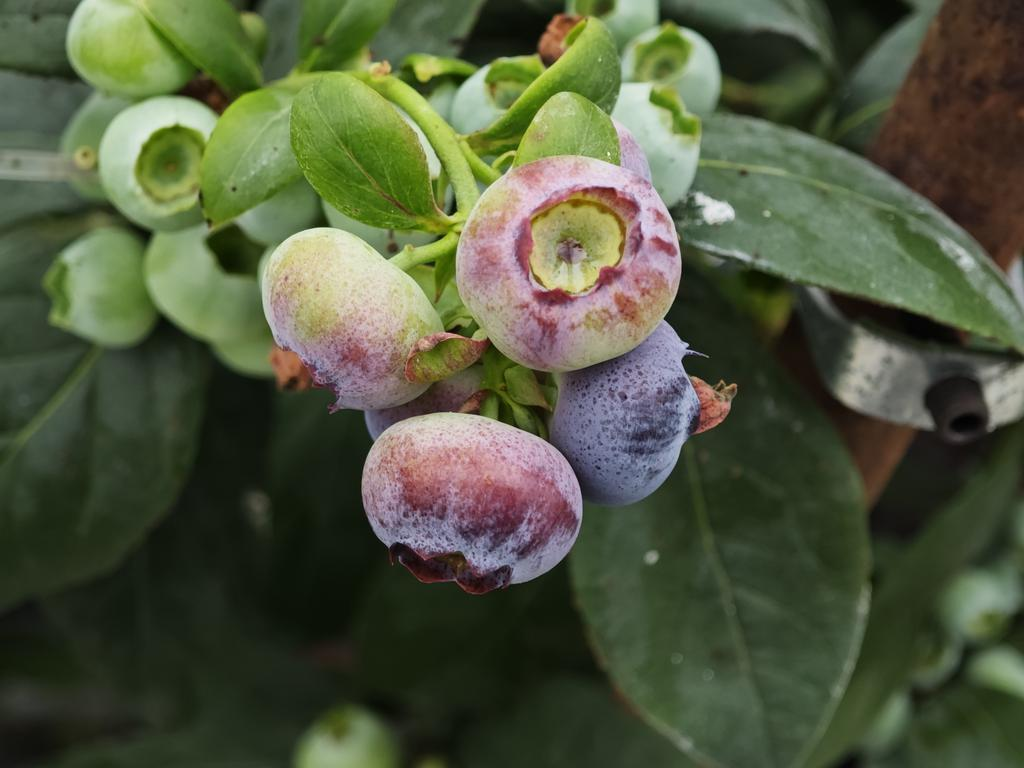Semi-RipeBlueBerry: (454, 149, 683, 376), (358, 408, 585, 596)
